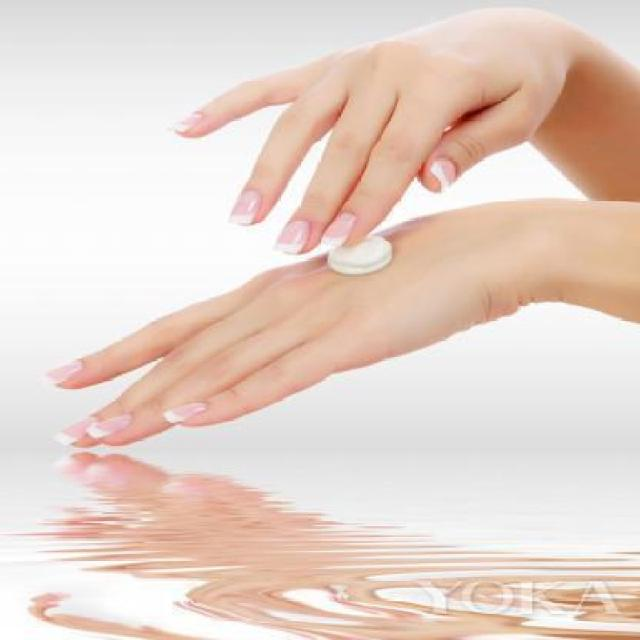hand_noglove: (39, 212, 553, 446), (169, 9, 573, 252)
